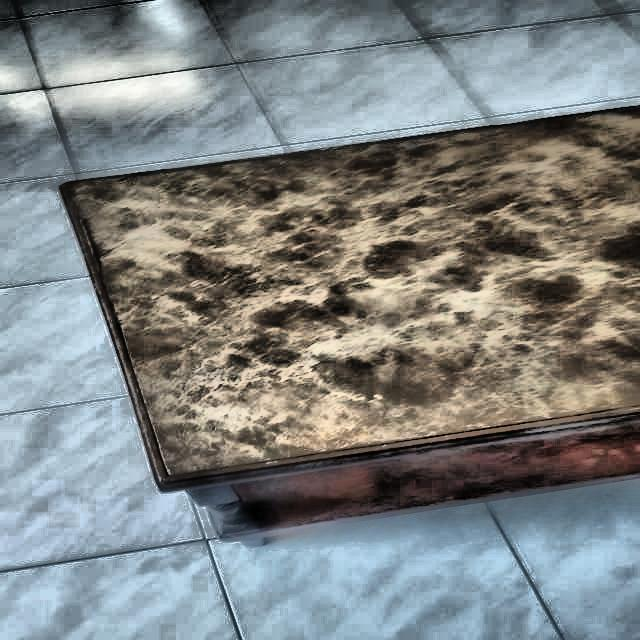mesa: (50, 101, 640, 550)
